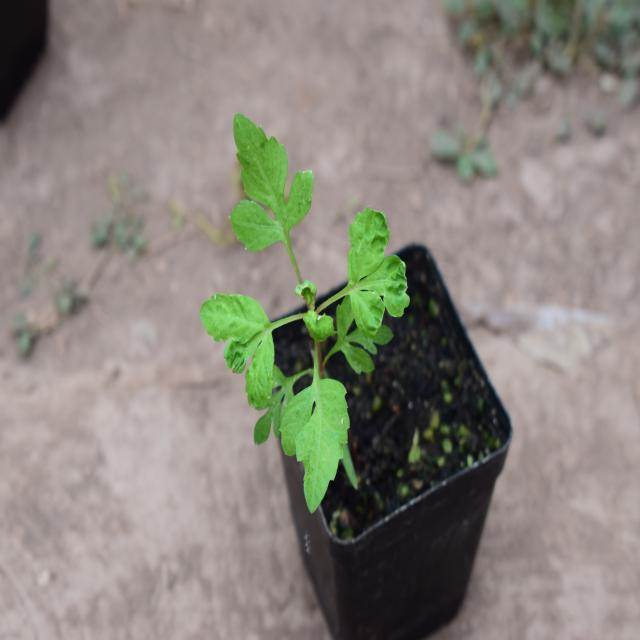Bidens pilosa: (193, 126, 406, 488)
